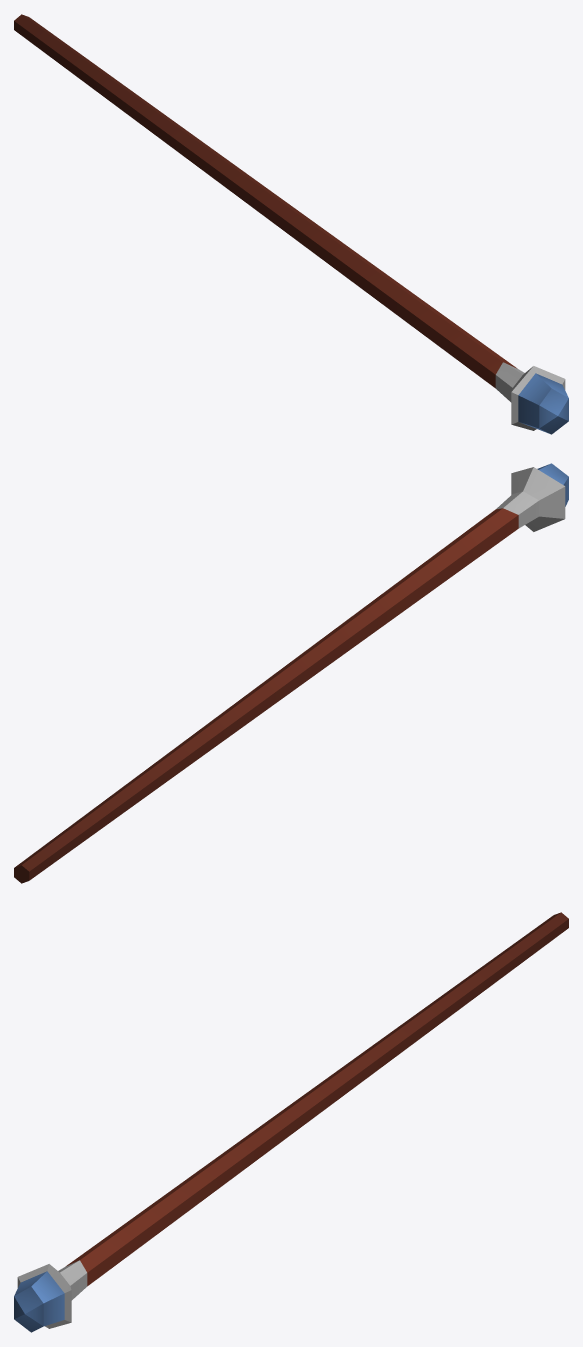
File: StaffBasic_B.glb
3 renders of one model, top to bottom at view 1: azimuth 30°, elevation 25°; view 2: azimuth 150°, elevation 25°; view 3: azimuth 330°, elevation 25°, orthographic.
Visible parts, largest first — view 1: StaffBasic_B; view 2: StaffBasic_B; view 3: StaffBasic_B.
Part boxes in pixels (x1,y1,x2,y2): StaffBasic_B: (14, 14, 568, 434); StaffBasic_B: (14, 463, 568, 883); StaffBasic_B: (14, 912, 568, 1332).
Bounding box in the file's own units: 0.1058 × 0.1222 × 1.82.
Materials: 1 (1 with a texture image).
